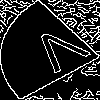V: (25, 25, 100, 82)
